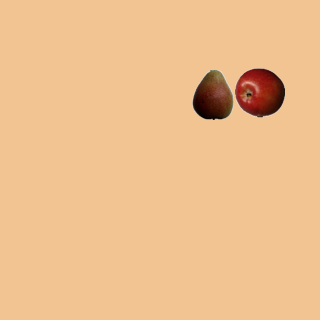Apple Braeburn: (234, 67, 284, 117)
Pear Forelle: (187, 69, 237, 119)
